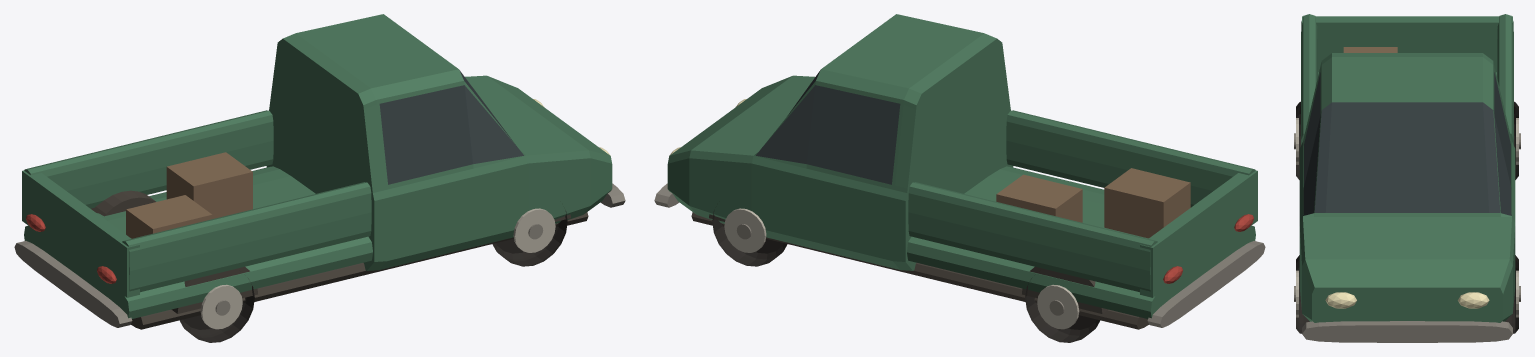
Rendered from pikap-yesil.glb.
The picture shows the model from 3 angles, left to right: view 1: azimuth 30°, elevation 25°; view 2: azimuth 150°, elevation 25°; view 3: azimuth 270°, elevation 25°; orthographic projection.
Visible parts, largest first — view 1: a_yesil, cam, ahsap, ic, tampon, jant, lastik, stop; view 2: a_yesil, cam, ahsap, tampon, ic, jant, lastik, stop; view 3: a_yesil, cam, tampon, lastik, far, jant, ahsap.
Boxes of the visible parts, x1,y1,x2,y2 form: a_yesil: (22,14,612,318); cam: (379,70,523,184); ahsap: (126,152,252,238); ic: (91,190,588,329); tampon: (14,183,625,327); jant: (200,208,555,329); lastik: (179,210,567,342); stop: (26,214,116,283); a_yesil: (667,14,1257,318); cam: (756,70,900,184); ahsap: (996,168,1190,238); tampon: (654,183,1265,327); ic: (691,212,1148,329); jant: (724,208,1079,329); lastik: (712,210,1100,342); stop: (1163,214,1253,283); a_yesil: (1299,14,1515,322); cam: (1303,72,1511,215); tampon: (1294,133,1520,342); lastik: (1296,101,1518,333); far: (1325,292,1489,308); jant: (1296,118,1518,317); ahsap: (1343,47,1397,52).
Bounding box in the file's own units: 4.8 × 1.82 × 1.85.
